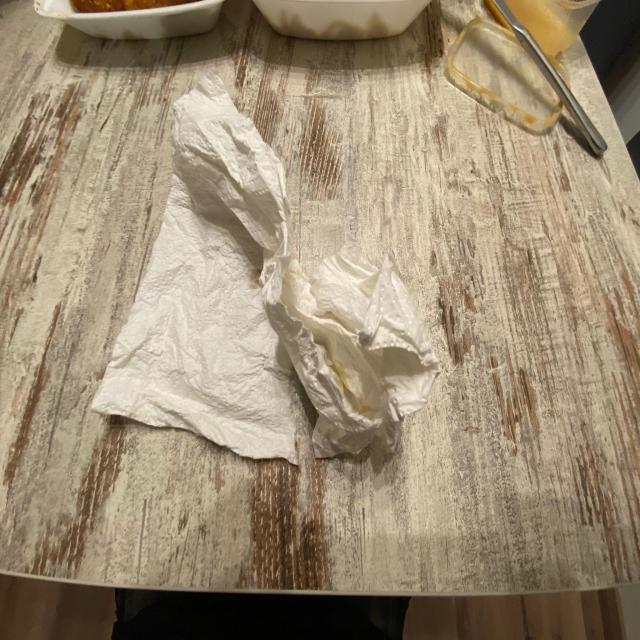kitchen paper: (90, 66, 300, 470), (266, 248, 440, 460)
